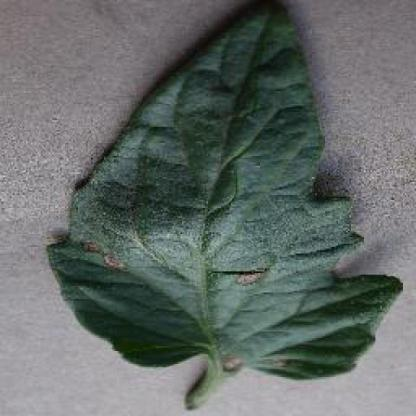Tomato_Blight: (63, 4, 400, 382)
